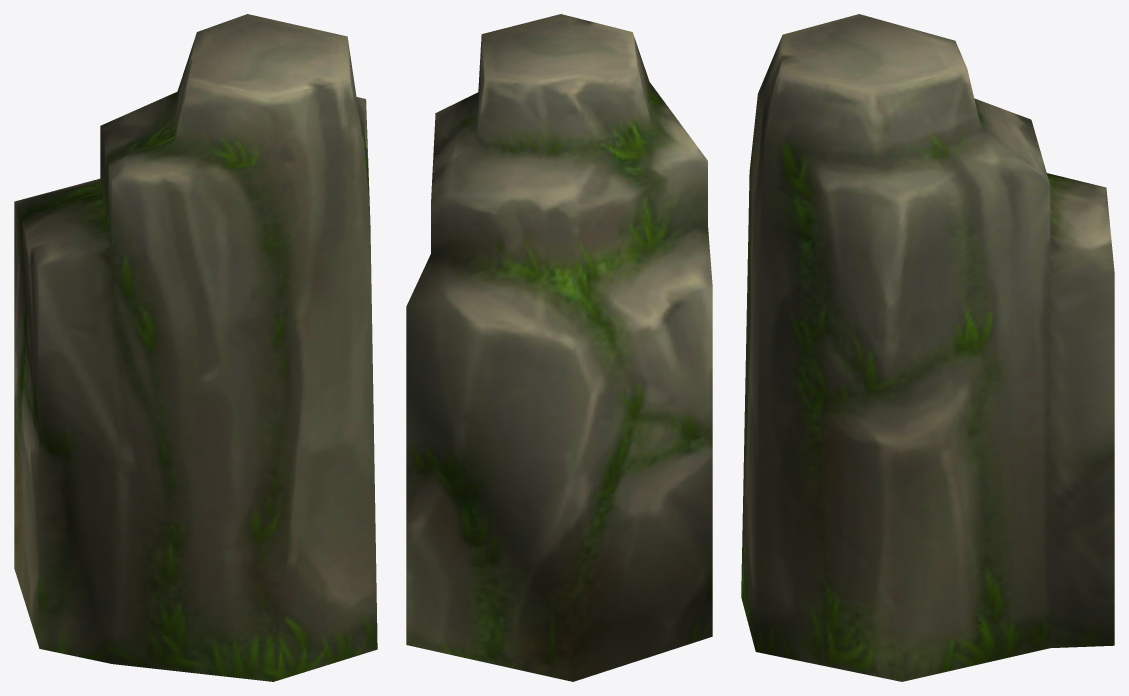
Rendered from RockFormation_4_5 (11).fbx.
3 views of the same model, side by side, from view 1: azimuth 30°, elevation 25°; view 2: azimuth 150°, elevation 25°; view 3: azimuth 270°, elevation 25° (orthographic). The views are drawn at different scales.
Visible parts, largest first — view 1: RockFormation_4_5 (11); view 2: RockFormation_4_5 (11); view 3: RockFormation_4_5 (11).
Part boxes in pixels (x1,y1,x2,y2): RockFormation_4_5 (11): (14,14,377,681); RockFormation_4_5 (11): (406,14,712,681); RockFormation_4_5 (11): (741,14,1114,681).
Bounding box in the file's own units: 893 × 1536 × 911.
